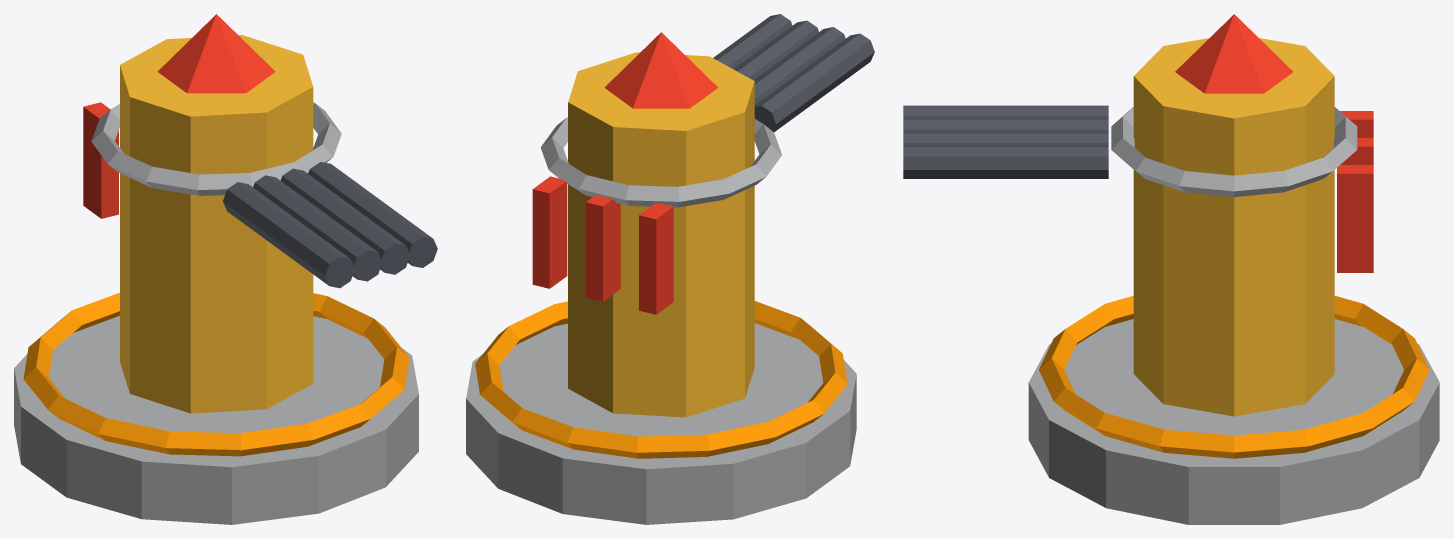
The model's file is TD_RapidTower_T2.fbx.
3 renders of one model, left to right at view 1: azimuth 30°, elevation 25°; view 2: azimuth 150°, elevation 25°; view 3: azimuth 270°, elevation 25°, orthographic. The views are drawn at different scales.
Parts seen in each view (by area): view 1: TD_RapidTower_T2_Body, TD_RapidTower_T2_Base, TD_RapidTower_T2_SpeedRing, TD_RapidTower_T2_TurretRing, TD_RapidTower_T2_Accent, TD_RapidTower_T2_Barrel_1, TD_RapidTower_T2_Barrel_4, TD_RapidTower_T2_Barrel_2, TD_RapidTower_T2_Barrel_3, TD_RapidTower_T2_RearCoolingFin_1; view 2: TD_RapidTower_T2_Body, TD_RapidTower_T2_Base, TD_RapidTower_T2_SpeedRing, TD_RapidTower_T2_TurretRing, TD_RapidTower_T2_Accent, TD_RapidTower_T2_Barrel_1, TD_RapidTower_T2_RearCoolingFin_3, TD_RapidTower_T2_RearCoolingFin_1, TD_RapidTower_T2_RearCoolingFin_2, TD_RapidTower_T2_Barrel_2, TD_RapidTower_T2_Barrel_3, TD_RapidTower_T2_Barrel_4; view 3: TD_RapidTower_T2_Body, TD_RapidTower_T2_Base, TD_RapidTower_T2_SpeedRing, TD_RapidTower_T2_Barrel_4, TD_RapidTower_T2_TurretRing, TD_RapidTower_T2_Accent, TD_RapidTower_T2_RearCoolingFin_3, TD_RapidTower_T2_Barrel_1, TD_RapidTower_T2_Barrel_3, TD_RapidTower_T2_Barrel_2.
Boxes of the visible parts, box(x1,y1,x2,y2) form: TD_RapidTower_T2_Body: box(120, 35, 313, 413); TD_RapidTower_T2_Base: box(14, 315, 418, 524); TD_RapidTower_T2_SpeedRing: box(23, 292, 409, 456); TD_RapidTower_T2_TurretRing: box(91, 102, 341, 195); TD_RapidTower_T2_Accent: box(157, 14, 275, 93); TD_RapidTower_T2_Barrel_1: box(223, 182, 354, 288); TD_RapidTower_T2_Barrel_4: box(308, 162, 437, 267); TD_RapidTower_T2_Barrel_2: box(253, 175, 382, 281); TD_RapidTower_T2_Barrel_3: box(280, 168, 409, 274); TD_RapidTower_T2_RearCoolingFin_1: box(83, 102, 118, 218); TD_RapidTower_T2_Body: box(568, 52, 754, 417); TD_RapidTower_T2_Base: box(466, 323, 856, 524); TD_RapidTower_T2_SpeedRing: box(475, 301, 847, 458); TD_RapidTower_T2_TurretRing: box(540, 117, 781, 207); TD_RapidTower_T2_Accent: box(604, 32, 718, 108); TD_RapidTower_T2_Barrel_1: box(754, 33, 874, 132); TD_RapidTower_T2_RearCoolingFin_3: box(532, 176, 567, 288); TD_RapidTower_T2_RearCoolingFin_1: box(639, 203, 673, 314); TD_RapidTower_T2_RearCoolingFin_2: box(586, 195, 620, 301); TD_RapidTower_T2_Barrel_2: box(753, 27, 845, 104); TD_RapidTower_T2_Barrel_3: box(733, 20, 818, 80); TD_RapidTower_T2_Barrel_4: box(713, 14, 792, 68); TD_RapidTower_T2_Body: box(1133, 38, 1334, 416); TD_RapidTower_T2_Base: box(1028, 319, 1439, 524); TD_RapidTower_T2_SpeedRing: box(1039, 296, 1429, 458); TD_RapidTower_T2_Barrel_4: box(903, 146, 1108, 178); TD_RapidTower_T2_TurretRing: box(1111, 107, 1357, 196); TD_RapidTower_T2_Accent: box(1175, 14, 1293, 93); TD_RapidTower_T2_RearCoolingFin_3: box(1337, 165, 1373, 272); TD_RapidTower_T2_Barrel_1: box(903, 105, 1108, 119); TD_RapidTower_T2_Barrel_3: box(903, 132, 1108, 146); TD_RapidTower_T2_Barrel_2: box(903, 119, 1108, 132).
Bounding box in the file's own units: 0.8774 × 1.03 × 1.17.
